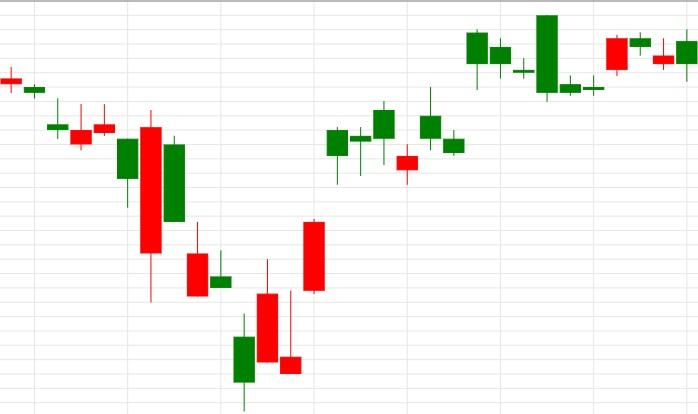bullish_engulfing_rise: (0, 66, 163, 303)
